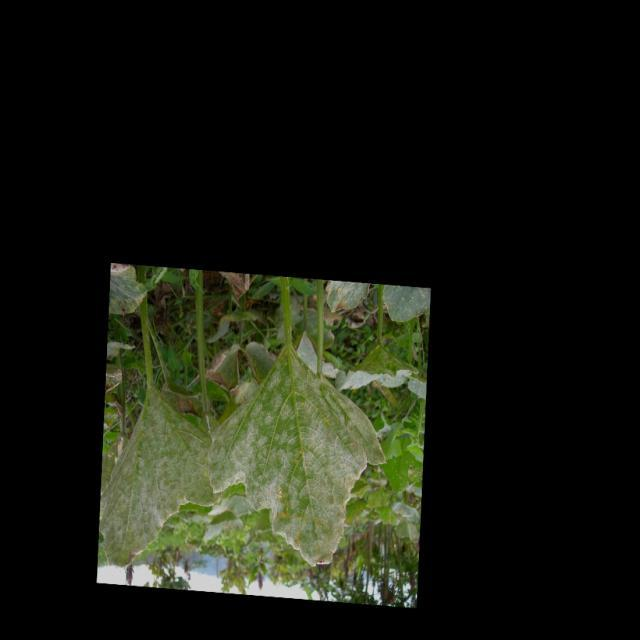Leaf_Mold: (222, 340, 402, 570), (105, 372, 222, 576)
